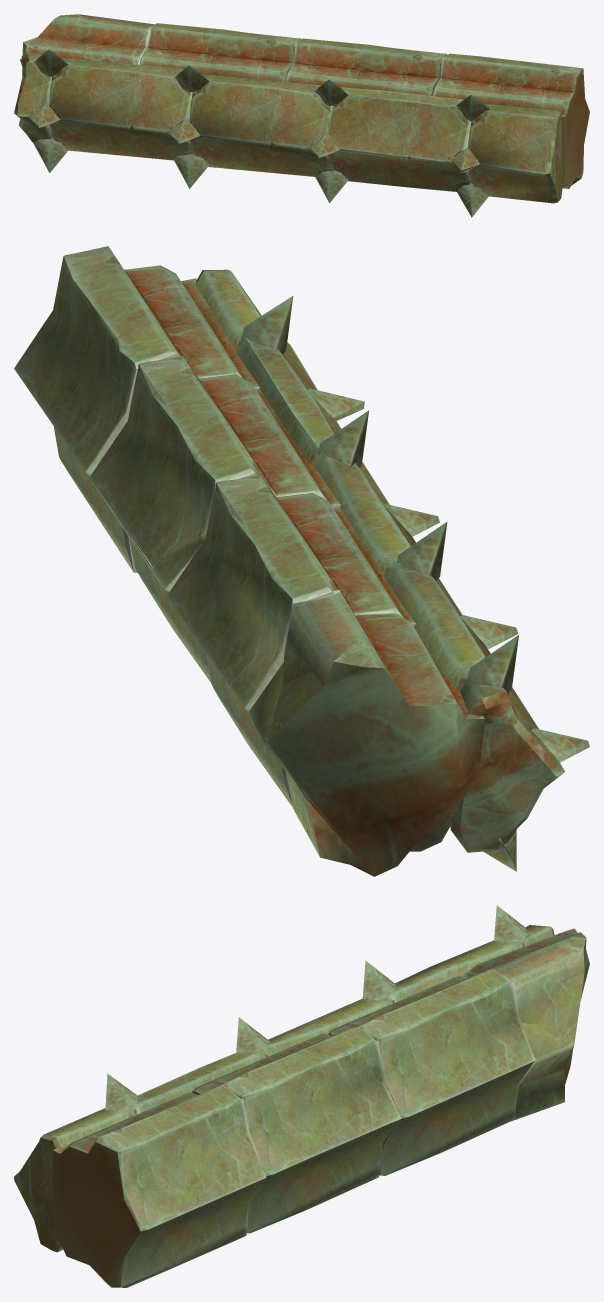
Rendered from Ruins_Collumn_Buttress_Dmg_B.fbx.
3 renders of one model, top to bottom at view 1: azimuth 30°, elevation 25°; view 2: azimuth 150°, elevation 25°; view 3: azimuth 270°, elevation 25°, orthographic. The views are drawn at different scales.
Visible parts, largest first — view 1: Ruins_Collumn_Buttress_Dmg_B; view 2: Ruins_Collumn_Buttress_Dmg_B; view 3: Ruins_Collumn_Buttress_Dmg_B.
Boxes of the visible parts, bbox=[...] form: Ruins_Collumn_Buttress_Dmg_B: bbox=[14, 14, 589, 217]; Ruins_Collumn_Buttress_Dmg_B: bbox=[14, 246, 589, 876]; Ruins_Collumn_Buttress_Dmg_B: bbox=[14, 905, 589, 1287].
Bounding box in the file's own units: 1746 × 484 × 1582.
